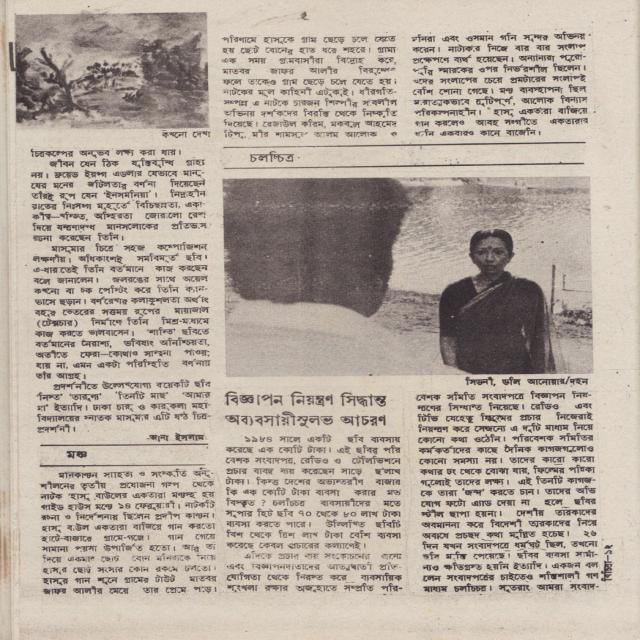caption: (465, 375, 590, 386), (160, 130, 211, 139)
image: (224, 179, 591, 375), (15, 12, 208, 128)
page number: (601, 541, 614, 554)
paragraph: (414, 389, 603, 592), (33, 241, 210, 382), (41, 466, 216, 595), (224, 434, 403, 549), (411, 31, 590, 138), (223, 35, 398, 141), (30, 159, 208, 242), (38, 380, 211, 432), (226, 550, 404, 594), (32, 149, 182, 158)
text: (149, 432, 205, 442), (601, 559, 614, 581)
title: (224, 391, 388, 428), (251, 151, 295, 162), (68, 450, 87, 459)
